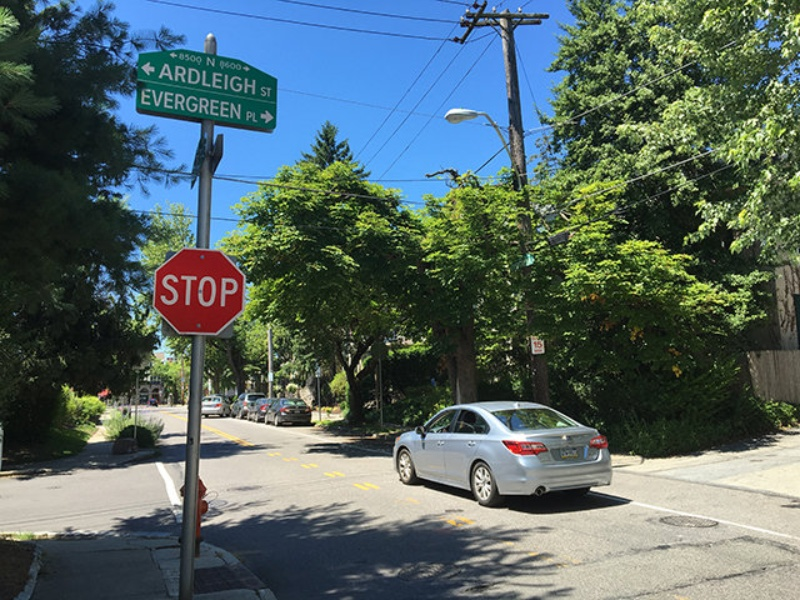stop sign: (151, 247, 247, 340)
